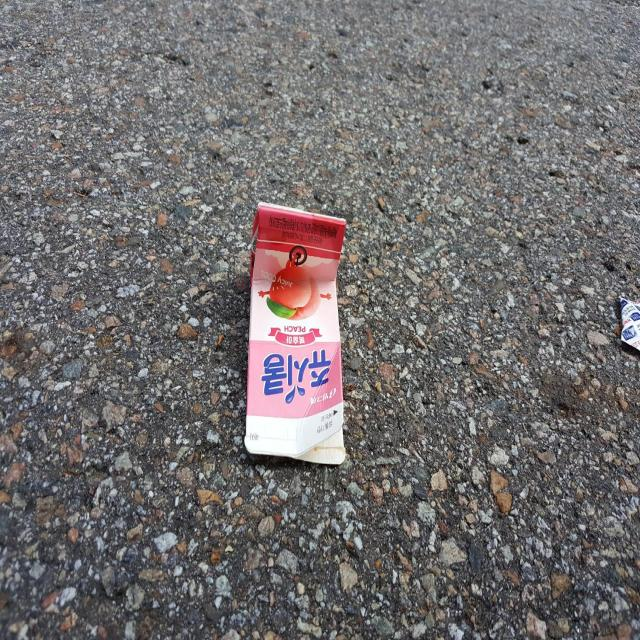paperpack: (244, 202, 346, 464)
